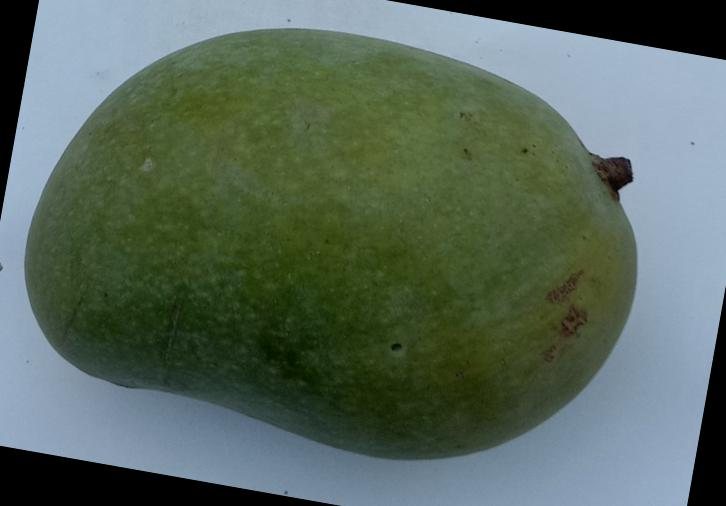Mango Unripe: (0, 0, 700, 492)
